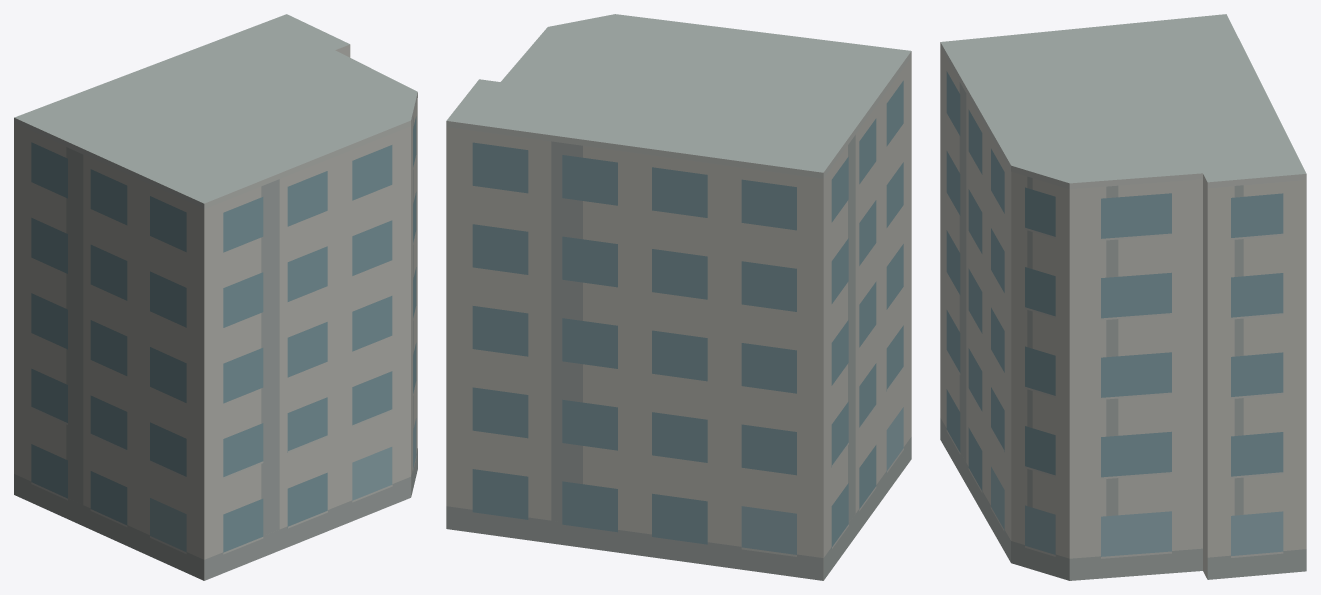
File: survey-upis-33030365.glb
3 views of the same model, side by side, from view 1: azimuth 30°, elevation 25°; view 2: azimuth 150°, elevation 25°; view 3: azimuth 270°, elevation 25° (orthographic). The views are drawn at different scales.
Parts seen in each view (by area): view 1: survey-upis-33030365.tmp; view 2: survey-upis-33030365.tmp; view 3: survey-upis-33030365.tmp.
Boxes of the visible parts, bbox=[...] form: survey-upis-33030365.tmp: bbox=[14, 14, 417, 580]; survey-upis-33030365.tmp: bbox=[446, 14, 911, 580]; survey-upis-33030365.tmp: bbox=[940, 14, 1306, 580].
Size of the model in its own units: 14.81 by 16.2 by 13.53.
